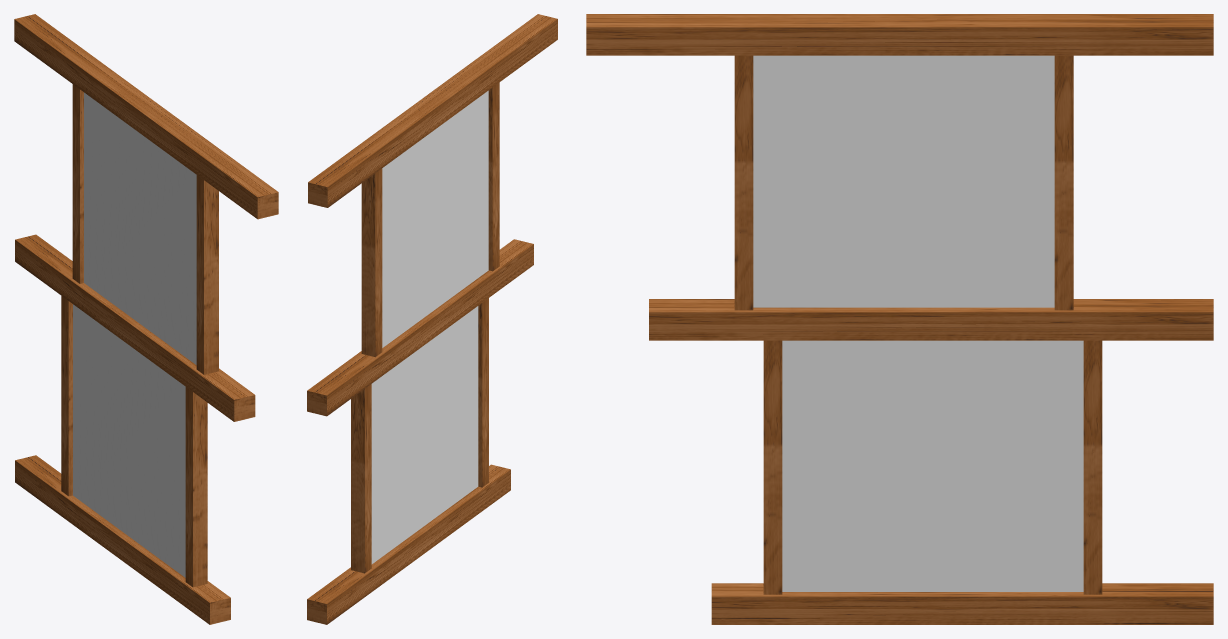
Rendered from Доска для рисования готовая.glb.
3 renders of one model, left to right at view 1: azimuth 30°, elevation 25°; view 2: azimuth 150°, elevation 25°; view 3: azimuth 270°, elevation 25°, orthographic. The views are drawn at different scales.
Visible parts, largest first — view 1: Куб, Куб.001, Cube.002, Cube.001, Cube, Куб.002, Куб.004, Куб.003, Куб.005; view 2: Куб, Куб.001, Cube.002, Cube.001, Cube, Куб.005, Куб.003, Куб.004, Куб.002; view 3: Куб.001, Куб, Cube.002, Cube.001, Cube, Куб.005, Куб.004, Куб.002, Куб.003.
Part boxes in pixels (x1,y1,x2,y2): Куб: (73,304,185,577); Куб.001: (84,92,196,364); Cube.002: (14,14,278,219); Cube.001: (15,234,255,421); Cube: (15,455,230,624); Куб.002: (185,387,207,587); Куб.004: (196,175,218,374); Куб.003: (61,296,72,496); Куб.005: (72,84,83,283); Куб: (371,306,478,564); Куб.001: (382,90,488,347); Cube.002: (308,14,557,207); Cube.001: (307,239,533,416); Cube: (307,464,510,624); Куб.005: (361,168,382,357); Куб.003: (351,384,371,573); Куб.004: (488,82,499,271); Куб.002: (478,298,488,487); Куб.001: (753,55,1054,307); Куб: (782,340,1083,591); Cube.002: (586,14,1213,55); Cube.001: (649,299,1213,340); Cube: (711,583,1213,624); Куб.005: (1054,55,1073,310); Куб.004: (734,55,753,310); Куб.002: (763,340,782,594); Куб.003: (1083,340,1102,594).
Size of the model in its own units: 0.1931 by 3.9 by 3.72.
Materials: 7 (5 with a texture image).
